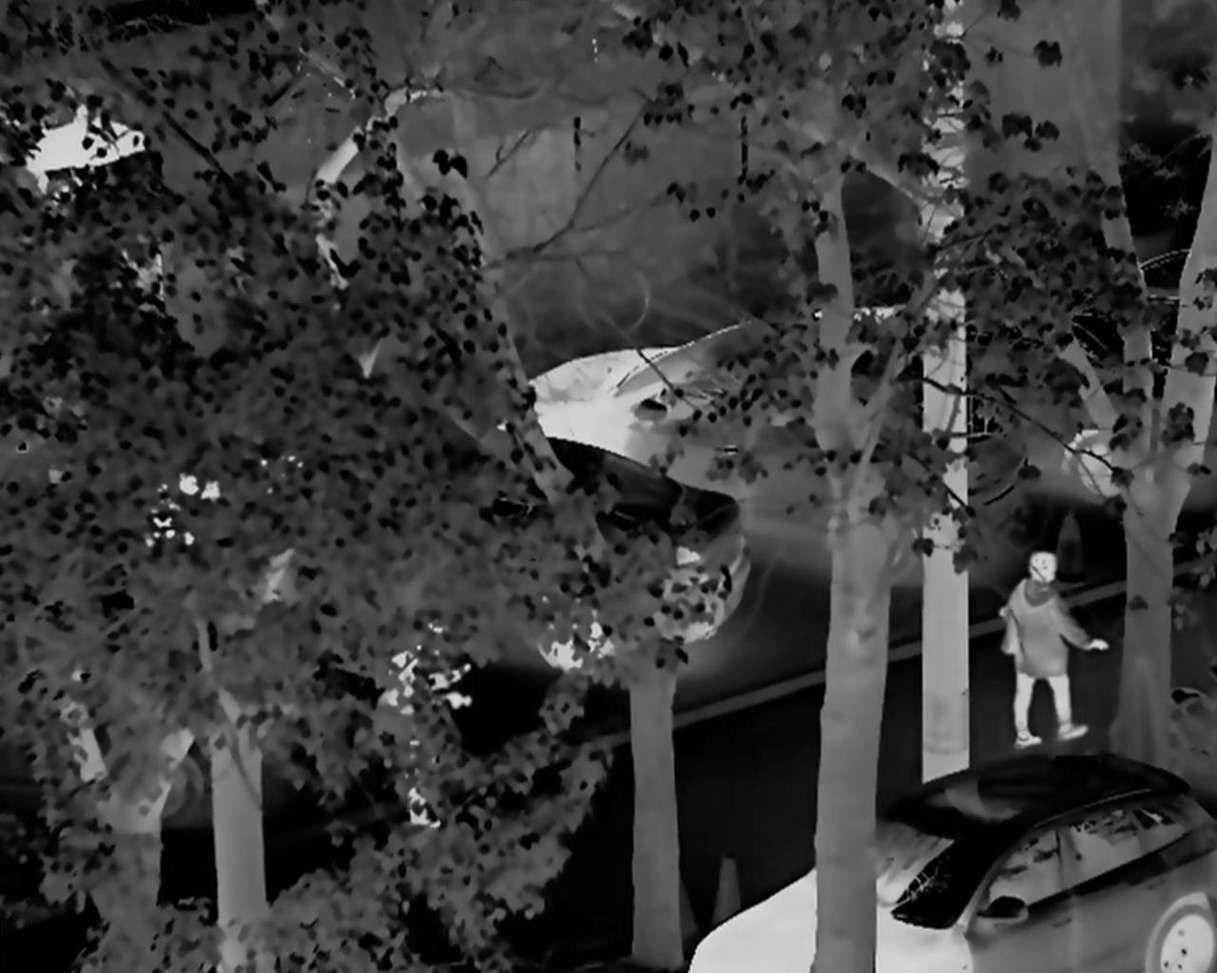person: (993, 546, 1103, 748), (375, 610, 460, 829)
